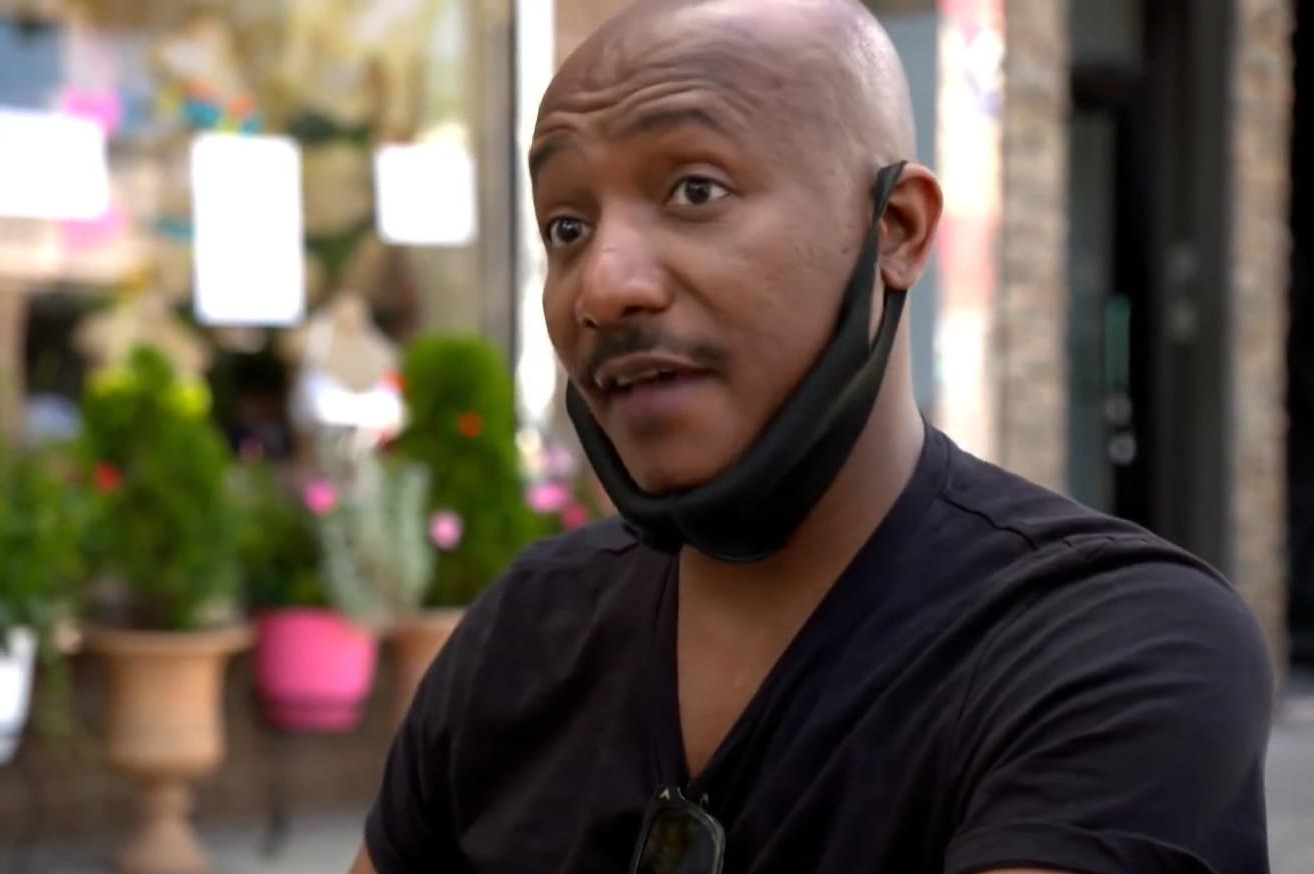with_incorrect_mask: (567, 90, 807, 508)
